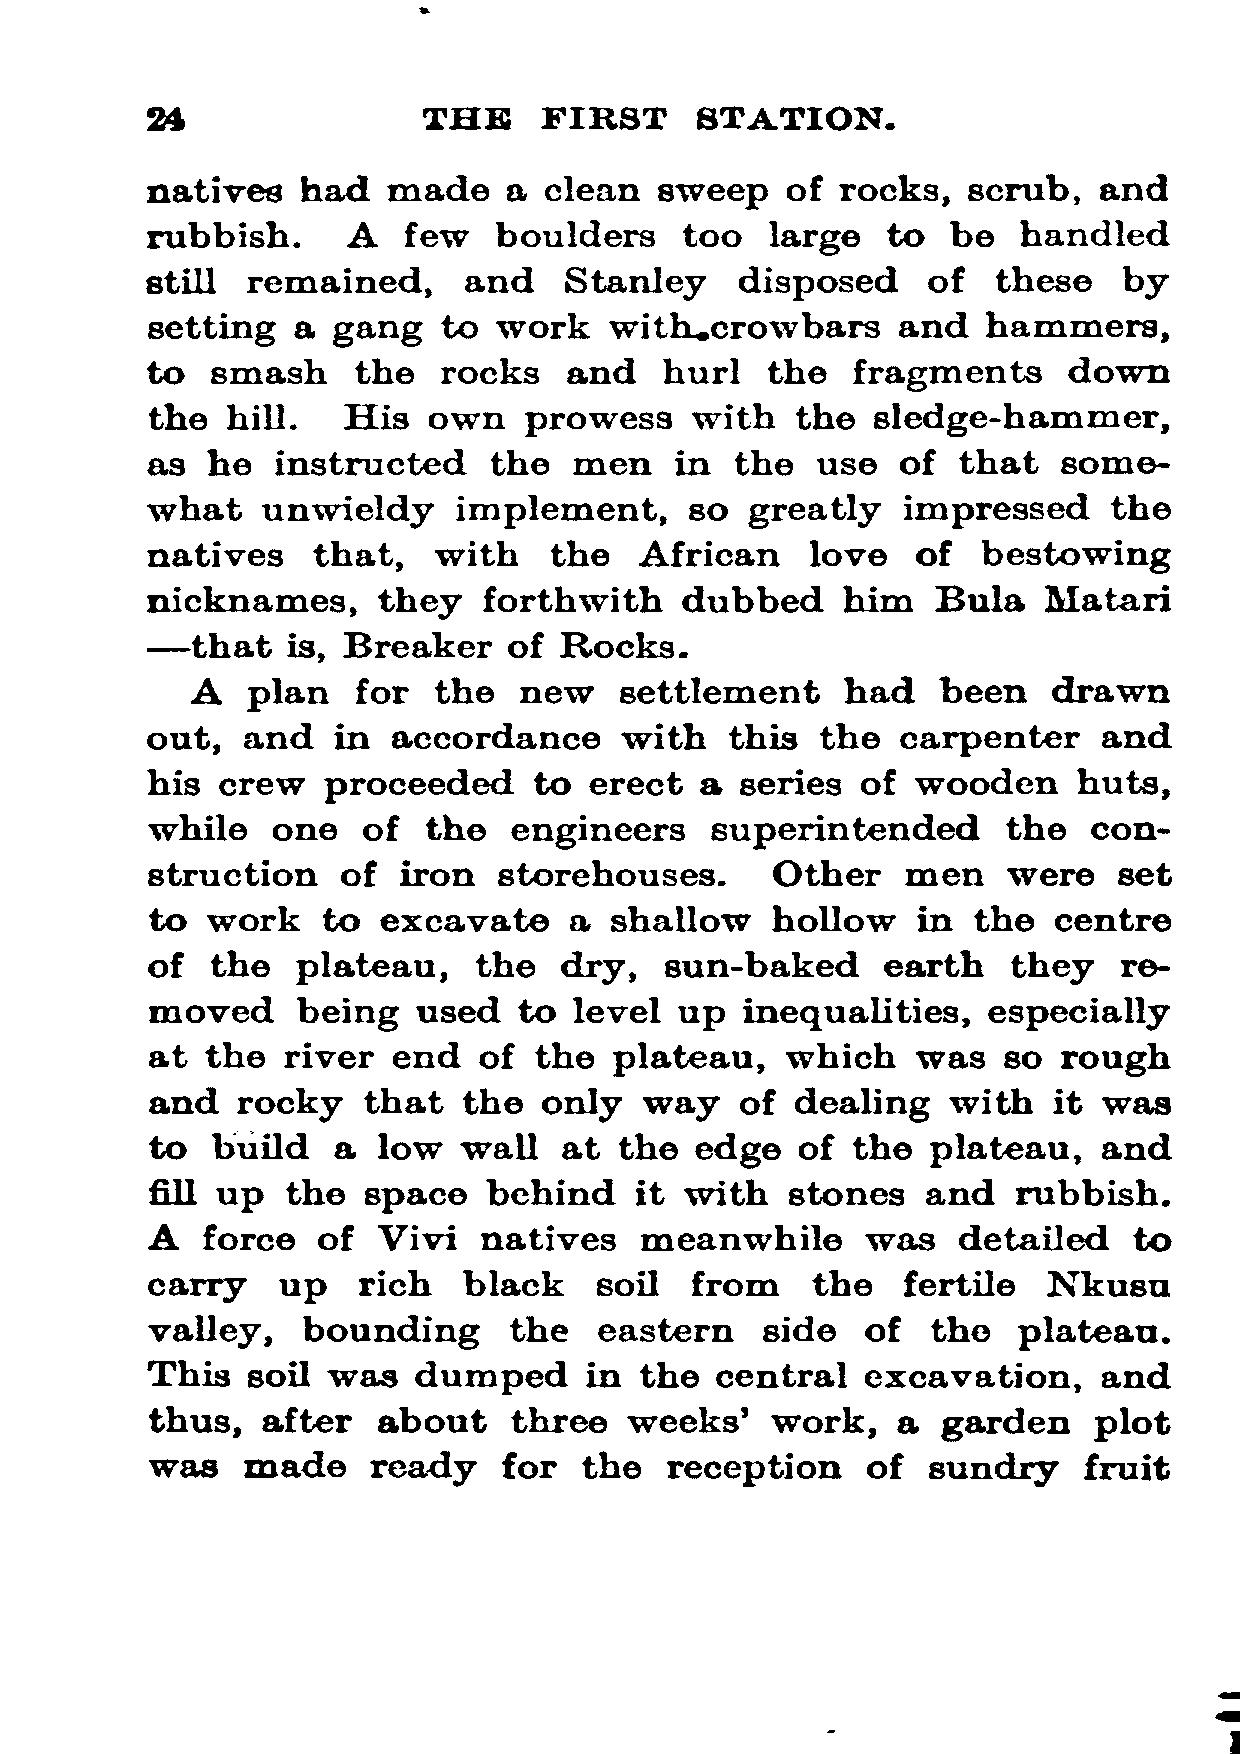content: (144, 172, 1174, 1490)
content_chapter: (419, 99, 894, 132)
content_pagenumber: (141, 98, 187, 136)
